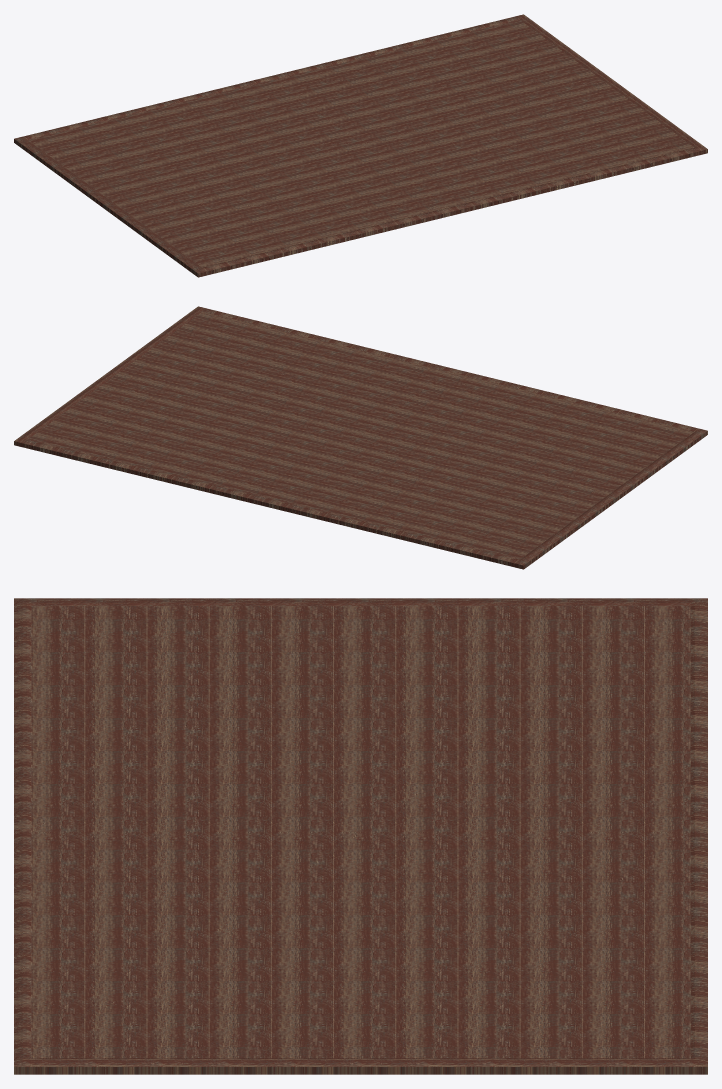
The model's file is cenario.fbx_pista.fbx.
3 renders of one model, top to bottom at view 1: azimuth 30°, elevation 25°; view 2: azimuth 150°, elevation 25°; view 3: azimuth 270°, elevation 25°, orthographic. The views are drawn at different scales.
Parts seen in each view (by area): view 1: chao.001; view 2: chao.001; view 3: chao.001.
Boxes of the visible parts, <box> form: chao.001: <box>14,14,707,277</box>; chao.001: <box>14,306,707,569</box>; chao.001: <box>14,598,707,1074</box>.
Size of the model in its own units: 3238 by 29.64 by 2027.
